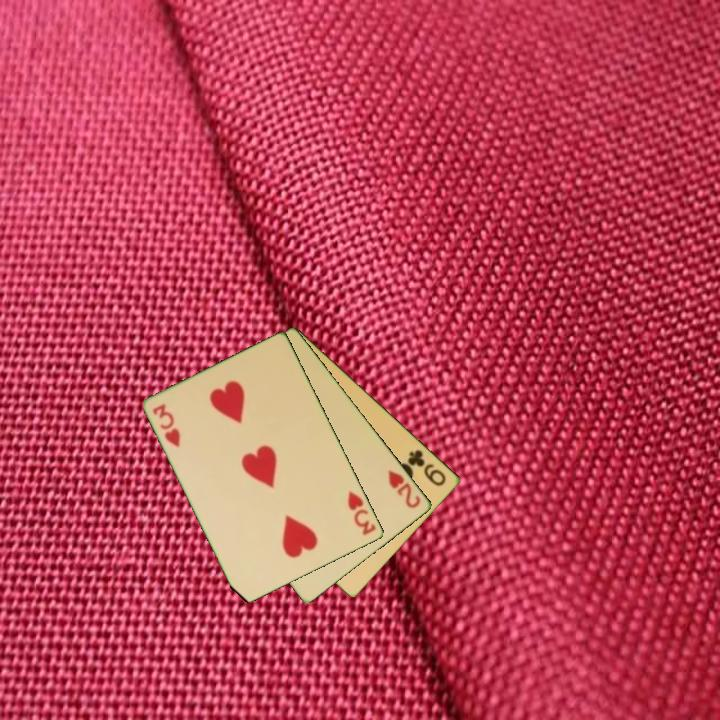2h: (385, 466, 424, 511)
3h: (344, 487, 380, 538), (149, 400, 183, 450)
9c: (404, 446, 449, 489)
